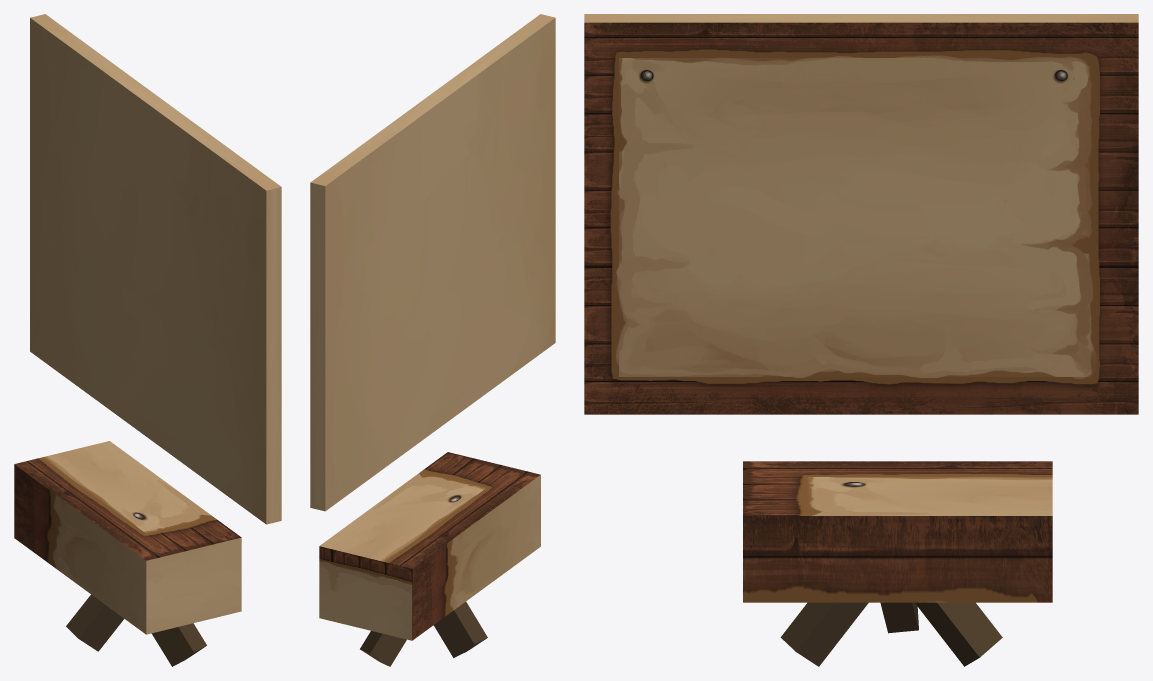
Rendered from mathPromptMain.fbx.
3 renders of one model, left to right at view 1: azimuth 30°, elevation 25°; view 2: azimuth 150°, elevation 25°; view 3: azimuth 270°, elevation 25°, orthographic. The views are drawn at different scales.
Parts seen in each view (by area): view 1: Cube, Cube.003, Cube.006, Cube.004; view 2: Cube, Cube.003, Cube.006, Cube.005; view 3: Cube, Cube.003, Cube.004, Cube.005, Cube.006.
Part boxes in pixels (bbox=[...]): Cube: bbox=[30, 14, 281, 524]; Cube.003: bbox=[14, 441, 241, 634]; Cube.006: bbox=[66, 594, 123, 651]; Cube.004: bbox=[151, 623, 206, 666]; Cube: bbox=[310, 14, 555, 511]; Cube.003: bbox=[319, 452, 540, 640]; Cube.006: bbox=[433, 601, 487, 657]; Cube.005: bbox=[360, 631, 406, 666]; Cube: bbox=[584, 14, 1138, 414]; Cube.003: bbox=[743, 461, 1052, 602]; Cube.004: bbox=[780, 602, 868, 666]; Cube.005: bbox=[915, 602, 1002, 666]; Cube.006: bbox=[880, 602, 918, 633].
Size of the model in its own units: 109 by 556 by 435.
